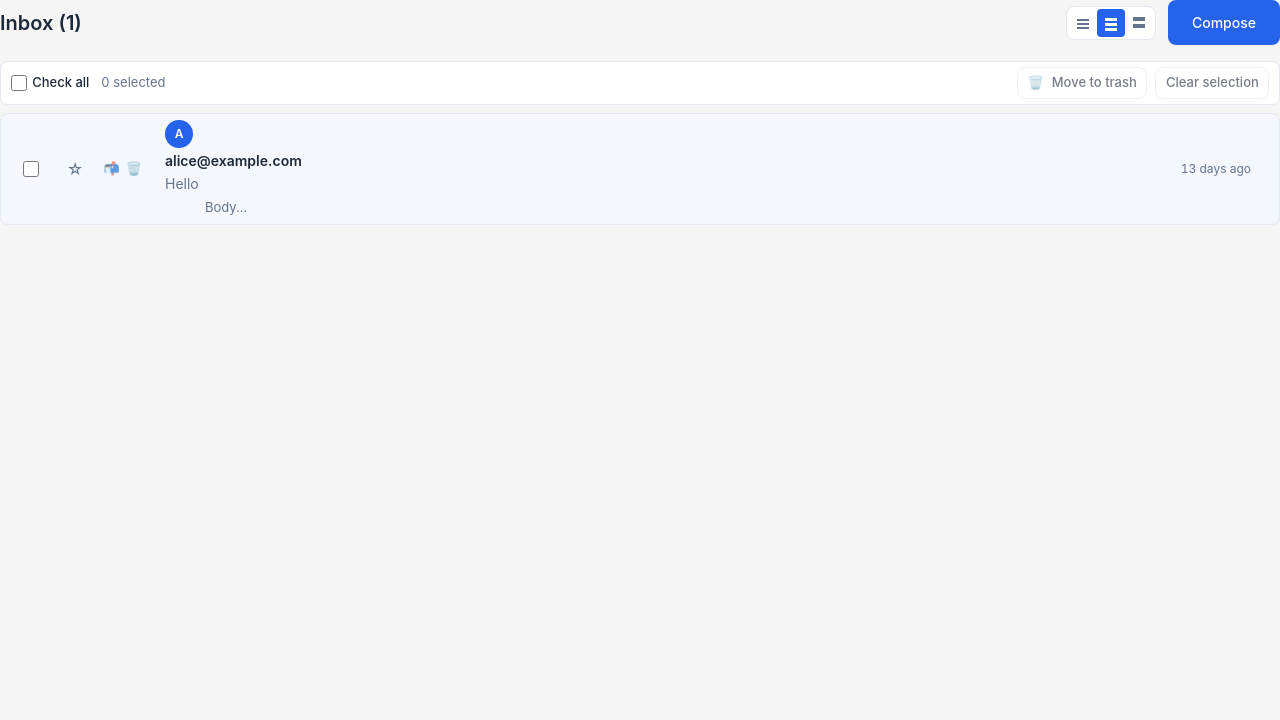
bulk trash actions › moves selected messages to trash after confirmation
The width and height of the screenshot is (1280, 720).
Click the checkbox with class "row-checkbox" at [31, 169], box left=23, top=161, right=39, bottom=177
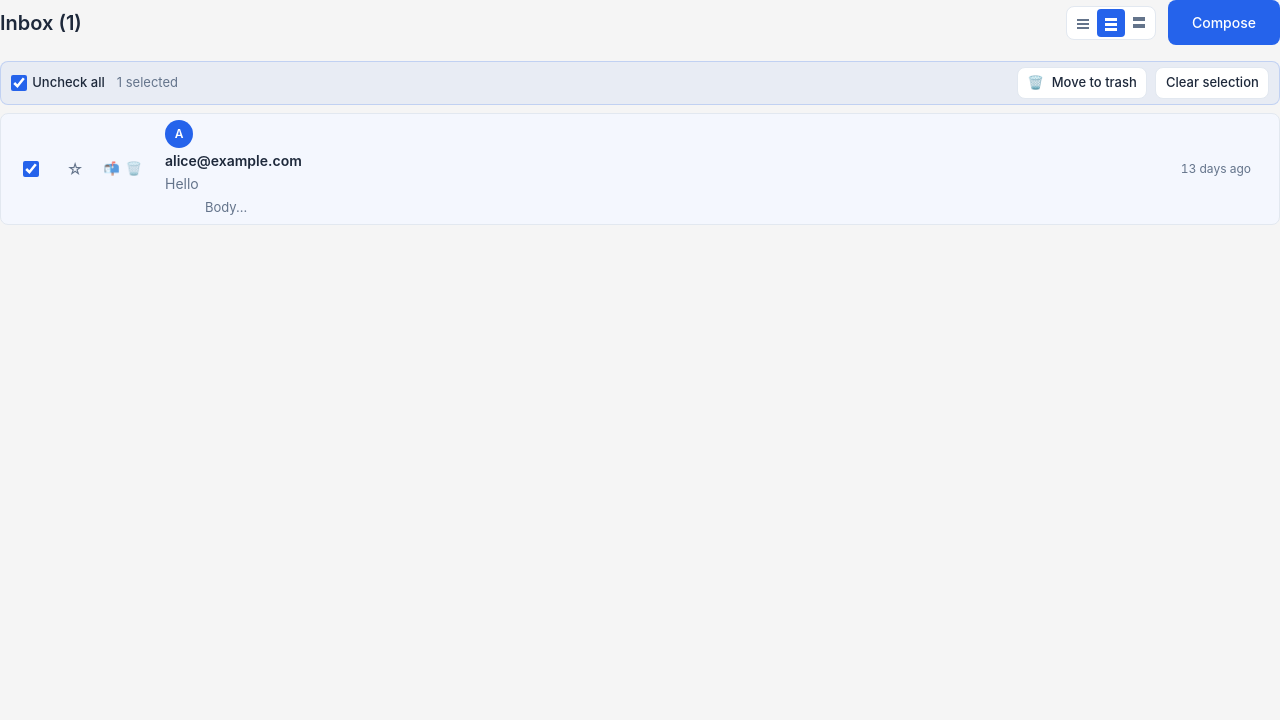
Click the button "🗑️ Move to trash" at [1082, 83], box left=1017, top=67, right=1147, bottom=100
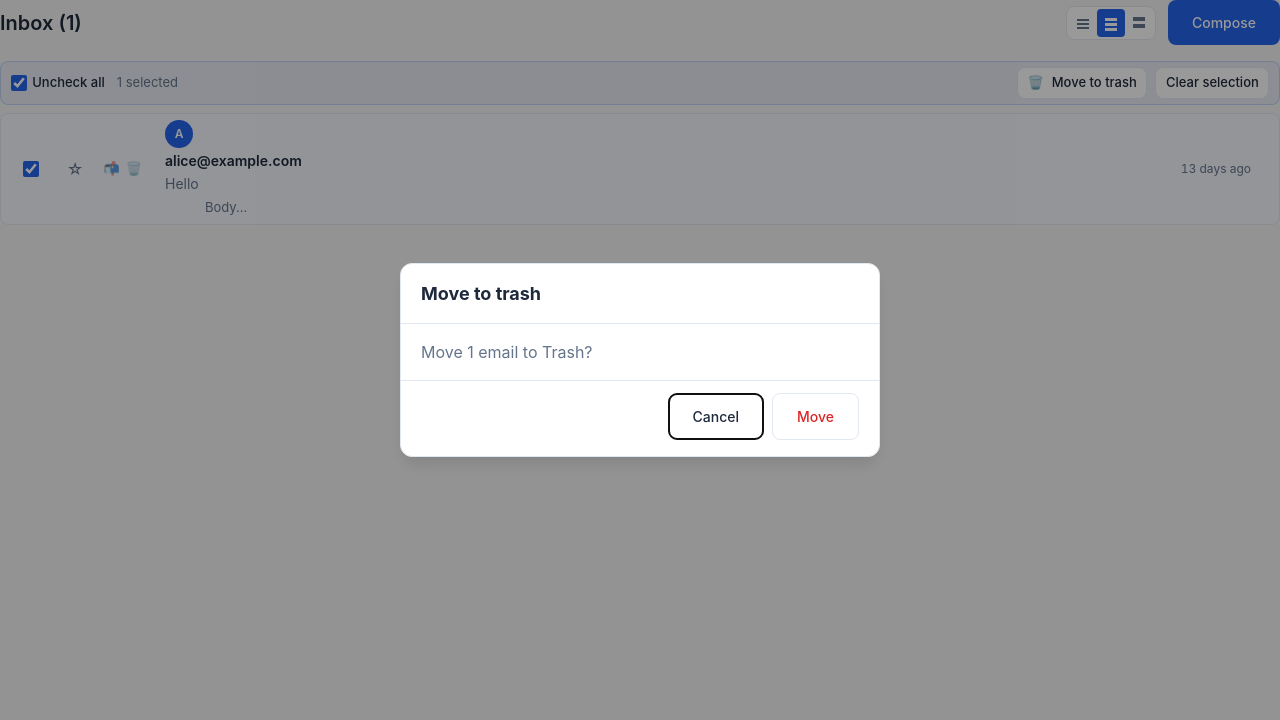
Check: the dialog shows "Move 1 email to Trash?", box left=421, top=342, right=592, bottom=362
Click the button "Move" at [816, 416], box left=772, top=393, right=859, bottom=440
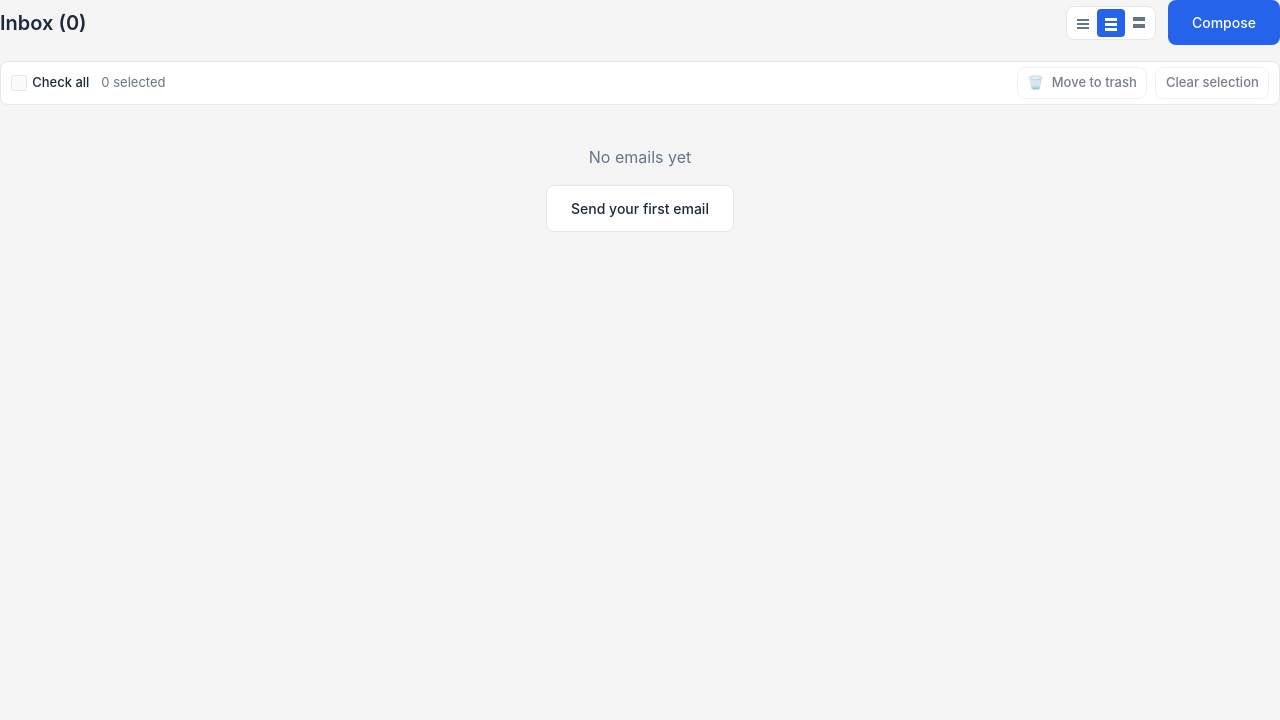
Check: the text "1 selected" is gone
